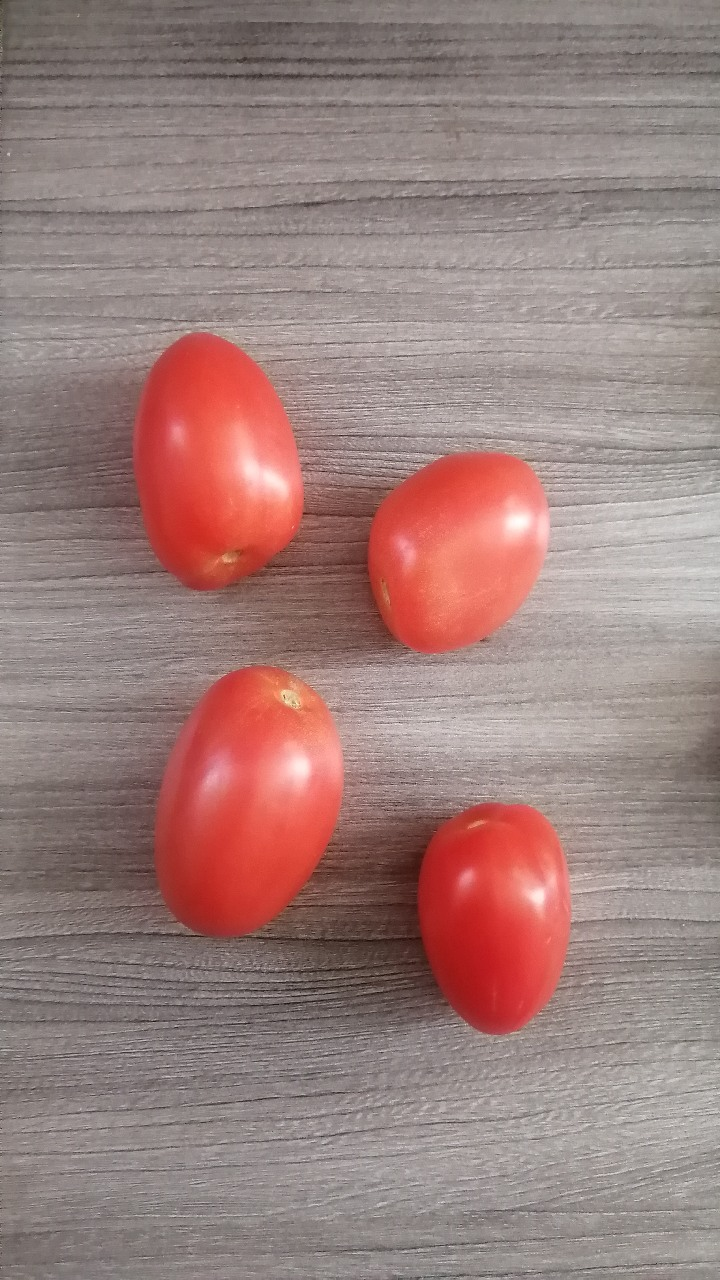tomateRojo: (118, 642, 358, 955), (124, 311, 348, 597), (403, 786, 595, 1054), (346, 432, 558, 668)
